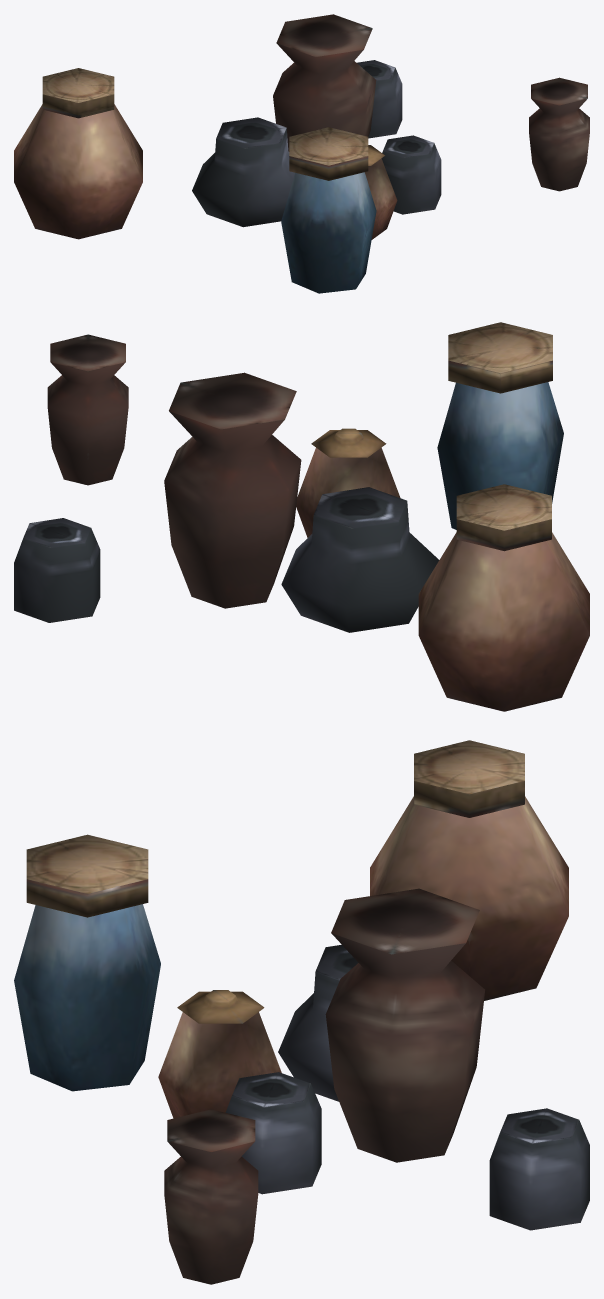
File: Map_06_jar01.FBX
The picture shows the model from 3 angles, top to bottom: view 1: azimuth 30°, elevation 25°; view 2: azimuth 150°, elevation 25°; view 3: azimuth 270°, elevation 25°; orthographic projection. The views are drawn at different scales.
Visible parts, largest first — view 1: Map_06_jar01; view 2: Map_06_jar01; view 3: Map_06_jar01.
Part boxes in pixels (x1,y1,x2,y2): Map_06_jar01: [14, 14, 589, 293]; Map_06_jar01: [14, 322, 589, 711]; Map_06_jar01: [14, 740, 589, 1284].
Size of the model in its own units: 364 by 239 by 101.
